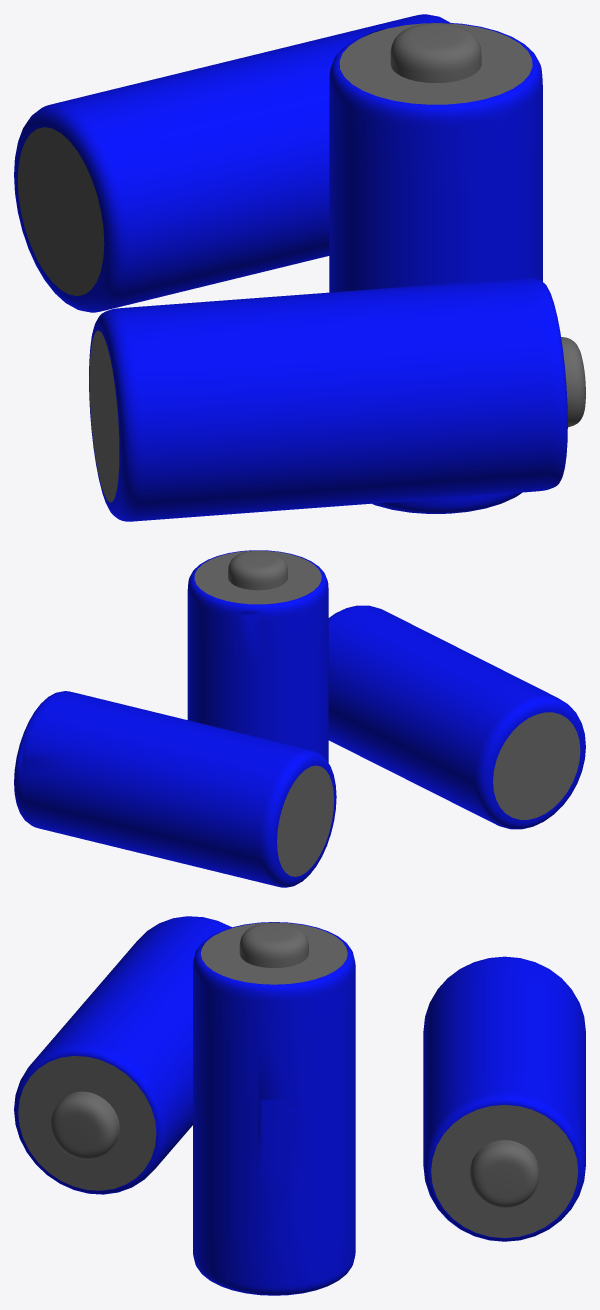
Rendered from baterai.fbx.
3 renders of one model, top to bottom at view 1: azimuth 30°, elevation 25°; view 2: azimuth 150°, elevation 25°; view 3: azimuth 270°, elevation 25°, orthographic. The views are drawn at different scales.
Parts seen in each view (by area): view 1: tabung baterai001, tabung baterai002, tabung baterai, silver baterai, silver baterai bawah002, silver baterai bawah001, silver baterai001; view 2: tabung baterai002, tabung baterai001, tabung baterai, silver baterai bawah001, silver baterai, silver baterai bawah002; view 3: tabung baterai, tabung baterai002, tabung baterai001, silver baterai002, silver baterai001, silver baterai.
Part boxes in pixels (<box>): tabung baterai001: <box>89,278,567,521</box>; tabung baterai002: <box>14,14,450,312</box>; tabung baterai: <box>329,22,542,513</box>; silver baterai: <box>339,23,532,104</box>; silver baterai bawah002: <box>17,127,104,295</box>; silver baterai bawah001: <box>89,330,119,502</box>; silver baterai001: <box>561,337,585,427</box>; tabung baterai002: <box>14,691,336,887</box>; tabung baterai001: <box>328,605,585,829</box>; tabung baterai: <box>187,550,328,762</box>; silver baterai bawah001: <box>493,712,580,819</box>; silver baterai: <box>194,550,321,604</box>; silver baterai bawah002: <box>277,765,333,876</box>; tabung baterai: <box>193,922,355,1295</box>; tabung baterai002: <box>423,956,585,1241</box>; tabung baterai001: <box>14,916,231,1194</box>; silver baterai002: <box>431,1104,578,1237</box>; silver baterai001: <box>18,1056,156,1190</box>; silver baterai: <box>200,922,347,984</box>.
Size of the model in its own units: 142 by 99.43 by 155.
